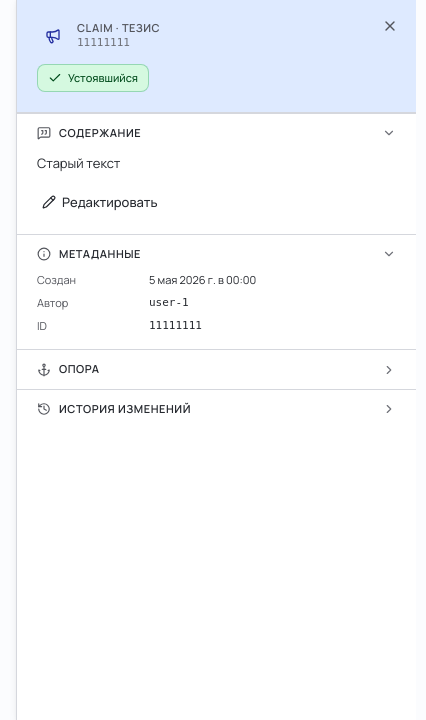
NodeDetailsPanel › кнопка "Редактировать" открывает textarea с текущим содержанием
The width and height of the screenshot is (426, 720).
Click the button "Редактировать".
click(100, 202)  # box x1=29 y1=186 x2=171 y2=218
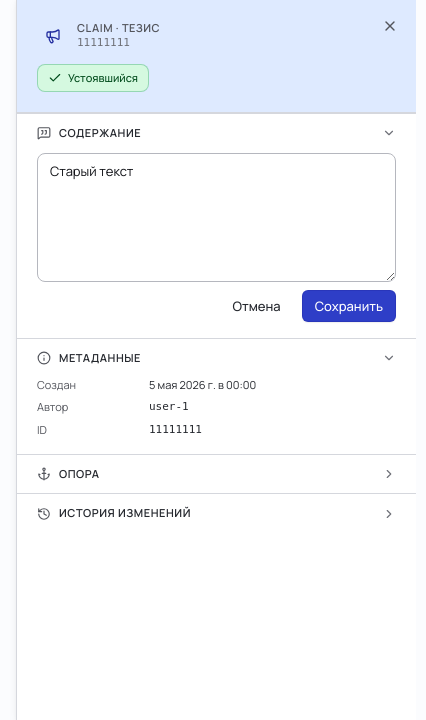
Check: the text box named "Содержание узла" holds "Старый текст", box x1=37 y1=153 x2=396 y2=282
